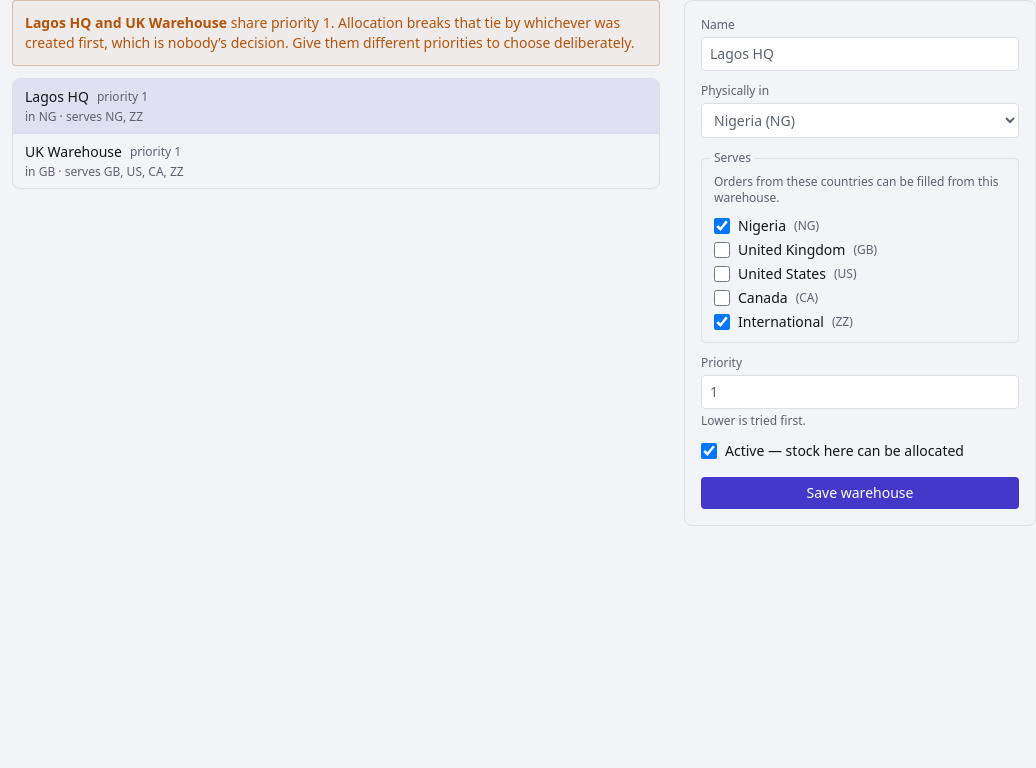
Test case: WarehouseManager › GATES DEACTIVATION TOO, naming every market it would strand
Click the checkbox labelled "Active — stock here can be allocated" at {"x": 709, "y": 451}, box [701,443,717,459]
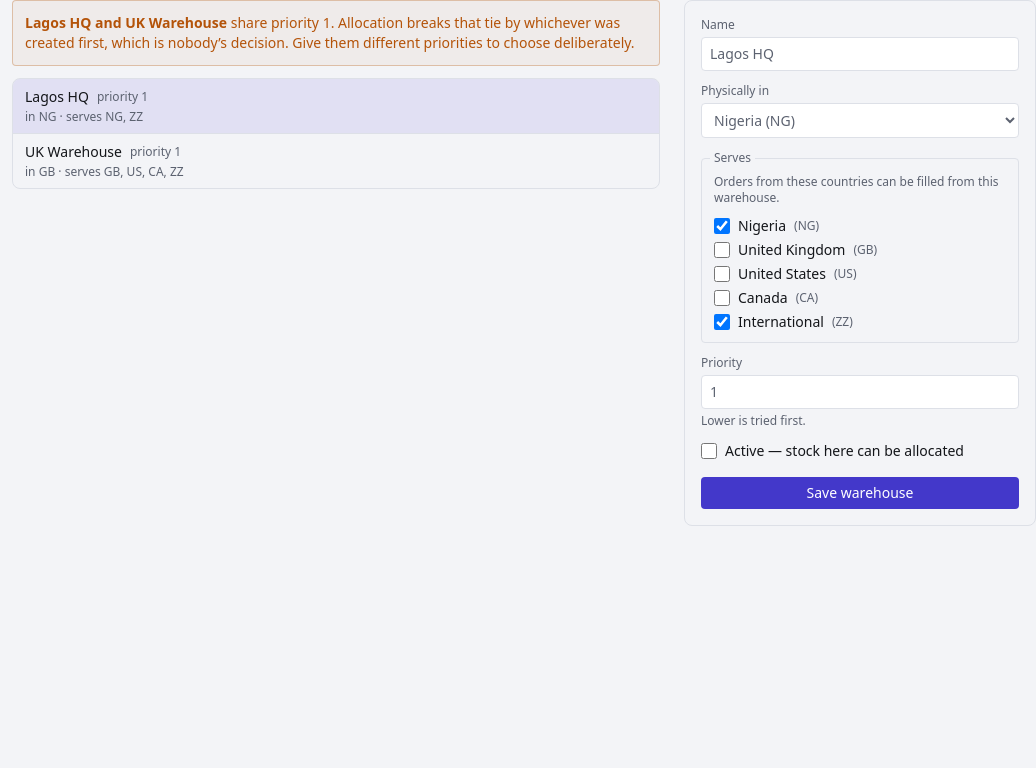
Click the button "Save warehouse" at {"x": 860, "y": 493}, box [701,477,1019,509]
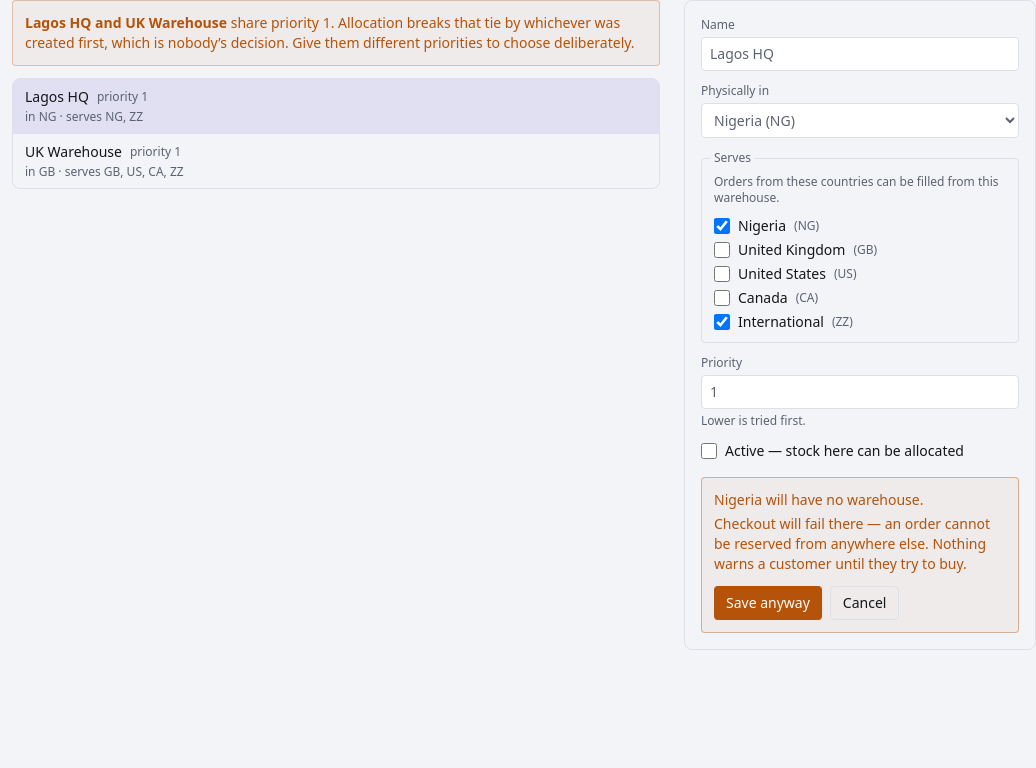
Expected: the text "Nigeria will have no warehouse." is shown, [714,490,923,509]
